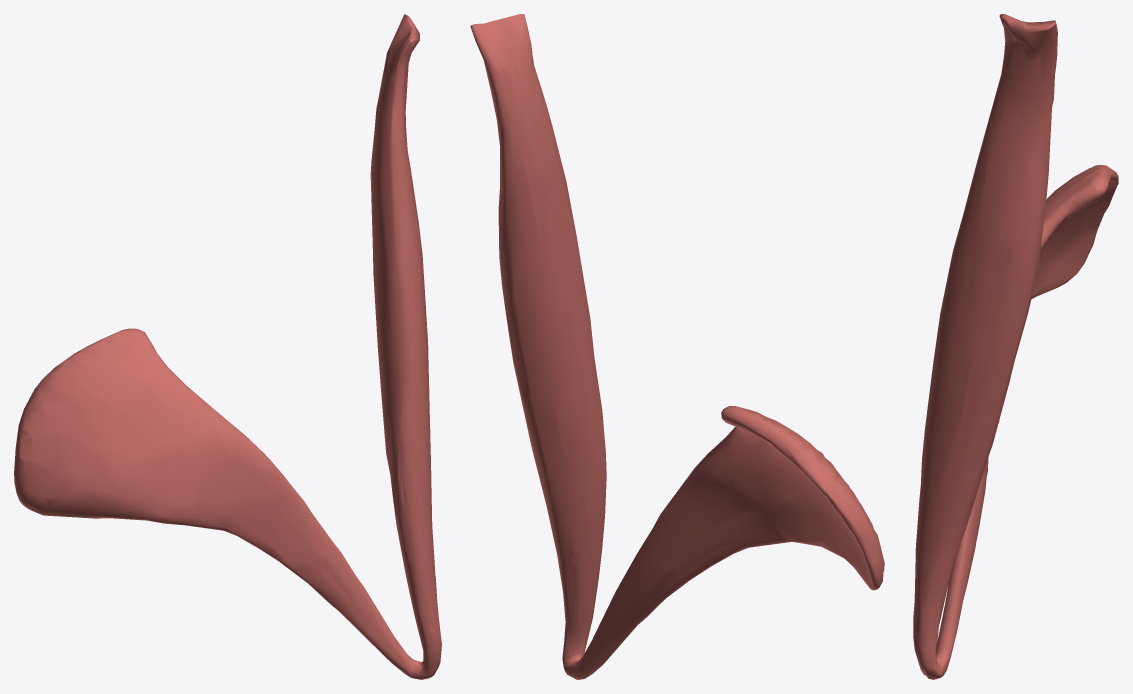
The picture shows the model from 3 angles, left to right: view 1: azimuth 30°, elevation 25°; view 2: azimuth 150°, elevation 25°; view 3: azimuth 270°, elevation 25°; orthographic projection. The views are drawn at different scales.
Visible parts, largest first — view 1: 右侧上斜肌; view 2: 右侧上斜肌; view 3: 右侧上斜肌.
Boxes of the visible parts, x1=… form: 右侧上斜肌: x1=14, y1=14, x2=441, y2=679; 右侧上斜肌: x1=470, y1=14, x2=884, y2=679; 右侧上斜肌: x1=913, y1=14, x2=1118, y2=679.
Bounding box in the file's own units: 0.0412 × 0.0638 × 0.0175.
